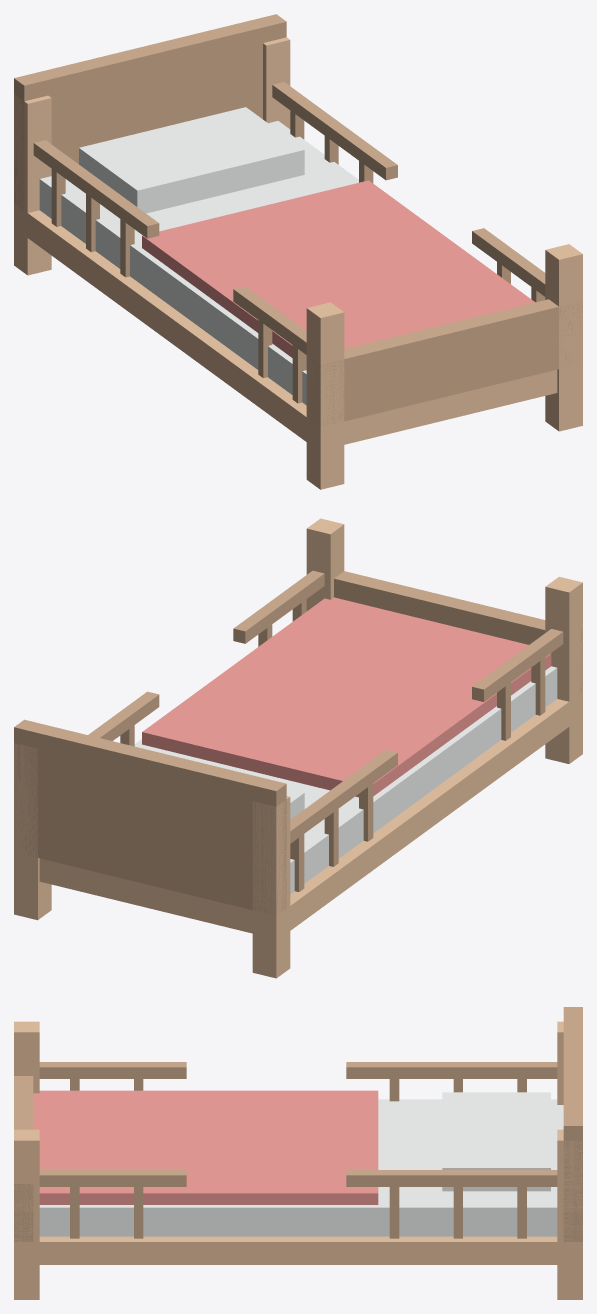
The model's file is toddlerBed.glb.
The picture shows the model from 3 angles, top to bottom: view 1: azimuth 30°, elevation 25°; view 2: azimuth 150°, elevation 25°; view 3: azimuth 270°, elevation 25°; orthographic projection. The views are drawn at different scales.
Parts seen in each view (by area): view 1: toddlerBed; view 2: toddlerBed; view 3: toddlerBed.
Boxes of the visible parts, bbox=[...] form: toddlerBed: bbox=[14, 14, 582, 489]; toddlerBed: bbox=[14, 518, 582, 978]; toddlerBed: bbox=[14, 1007, 582, 1299].
Bounding box in the file's own units: 0.44 × 0.3 × 0.89.
